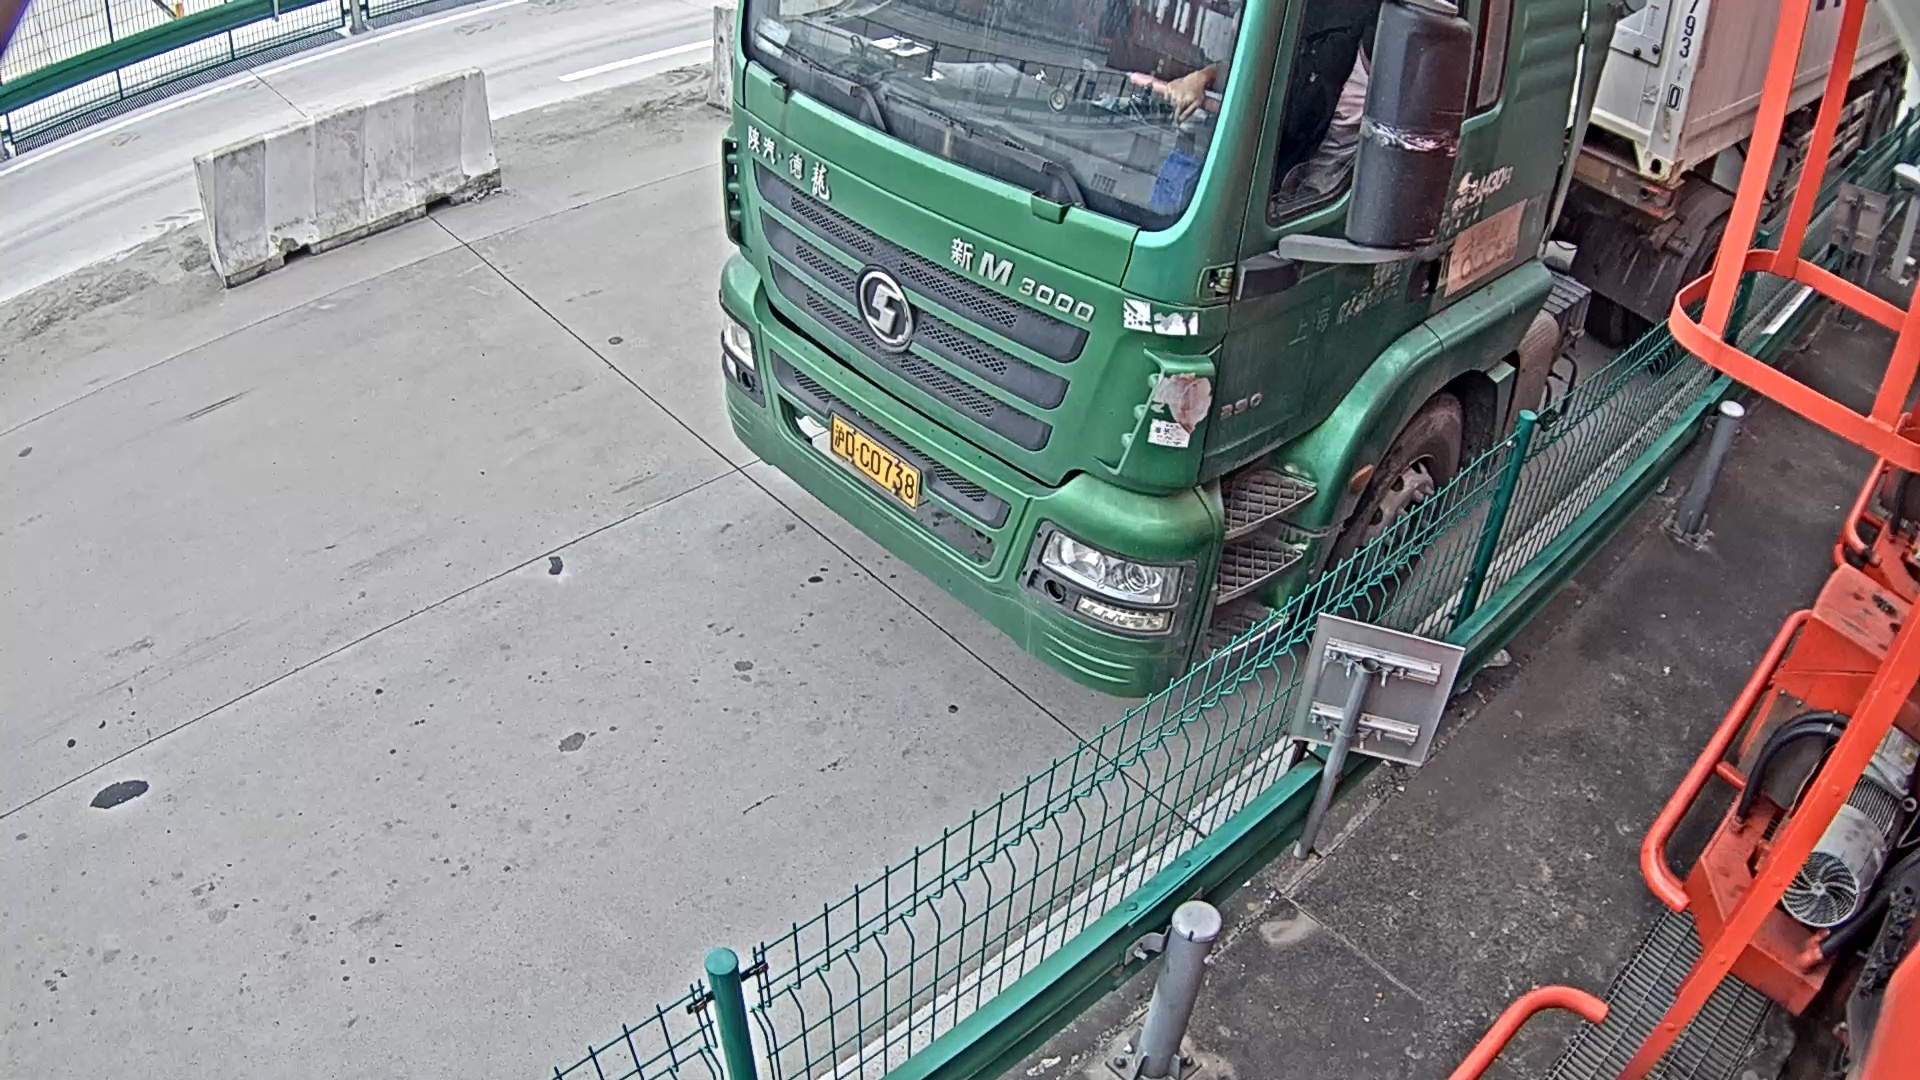head: (719, 1, 1604, 701)
plate: (833, 412, 921, 512)
